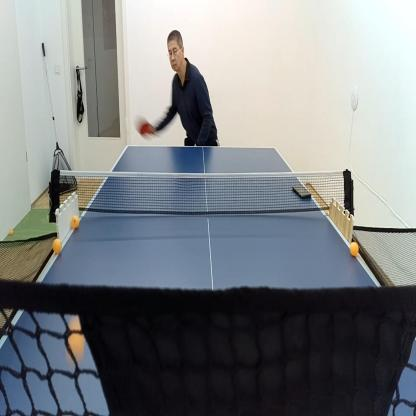Ball: (64, 312, 86, 364), (52, 237, 63, 255), (70, 215, 80, 231), (350, 241, 359, 257), (124, 114, 131, 130), (8, 228, 14, 236)
